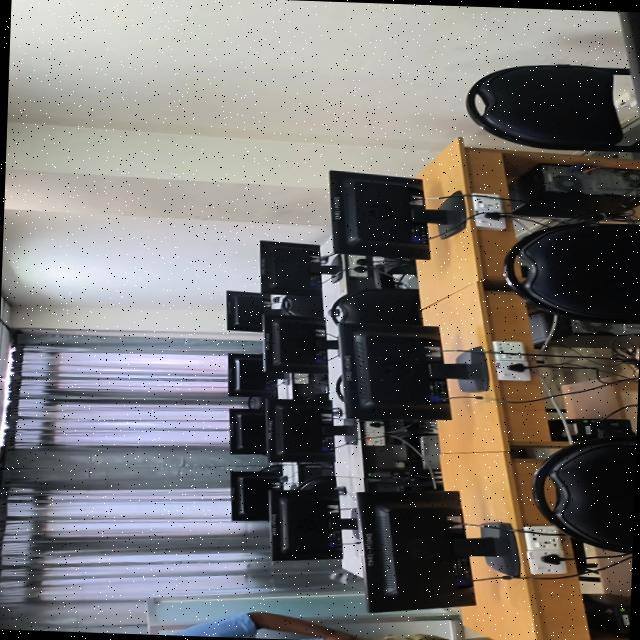Chair: (466, 63, 640, 151), (504, 221, 640, 322), (532, 434, 636, 553), (330, 287, 421, 323), (272, 293, 322, 316), (297, 474, 335, 489), (339, 485, 344, 491)
Cpu: (509, 162, 640, 217), (529, 308, 640, 347)
Monitor: (357, 489, 474, 611), (339, 321, 486, 418), (329, 169, 428, 257), (271, 485, 341, 558), (273, 397, 352, 460), (262, 311, 337, 371), (260, 240, 321, 294), (230, 468, 281, 520), (617, 10, 640, 120), (227, 352, 276, 396), (226, 290, 269, 330), (229, 407, 264, 453)
Mouse: (332, 407, 342, 415)
